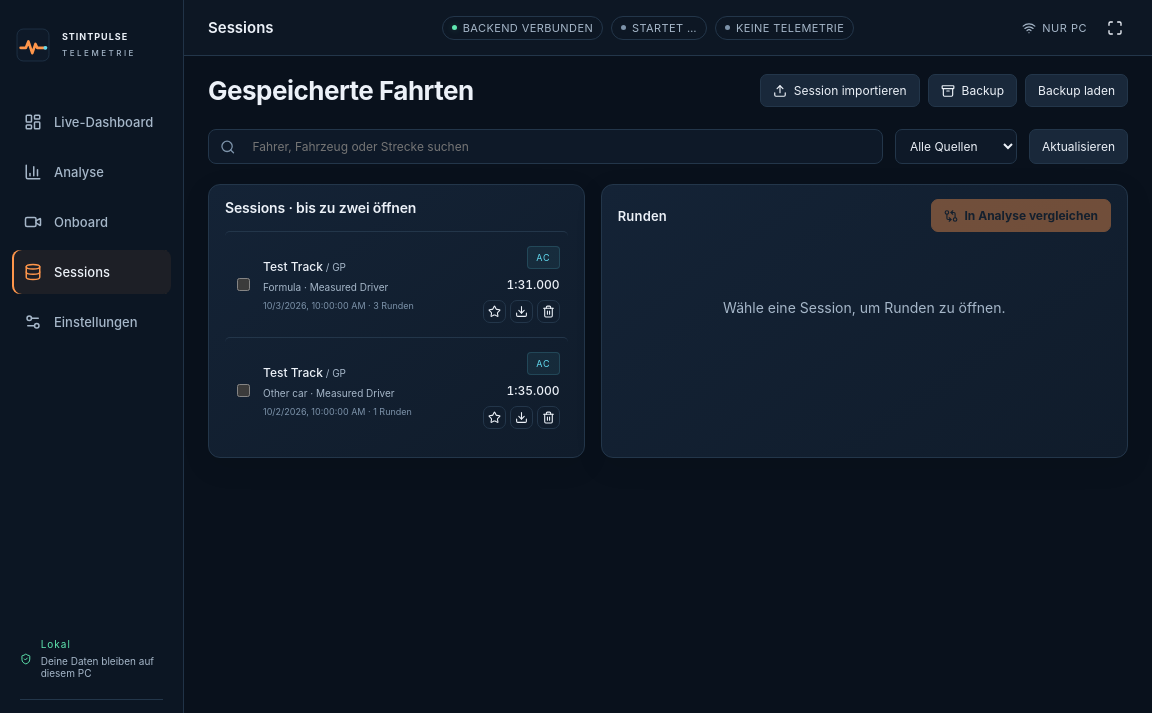
Test case: incompatible laps cannot be sent to analysis
The width and height of the screenshot is (1152, 713).
Note: open both sessions: same track, but the second one is another car
Click the 1st checkbox: (244, 284) [237, 278, 250, 291]
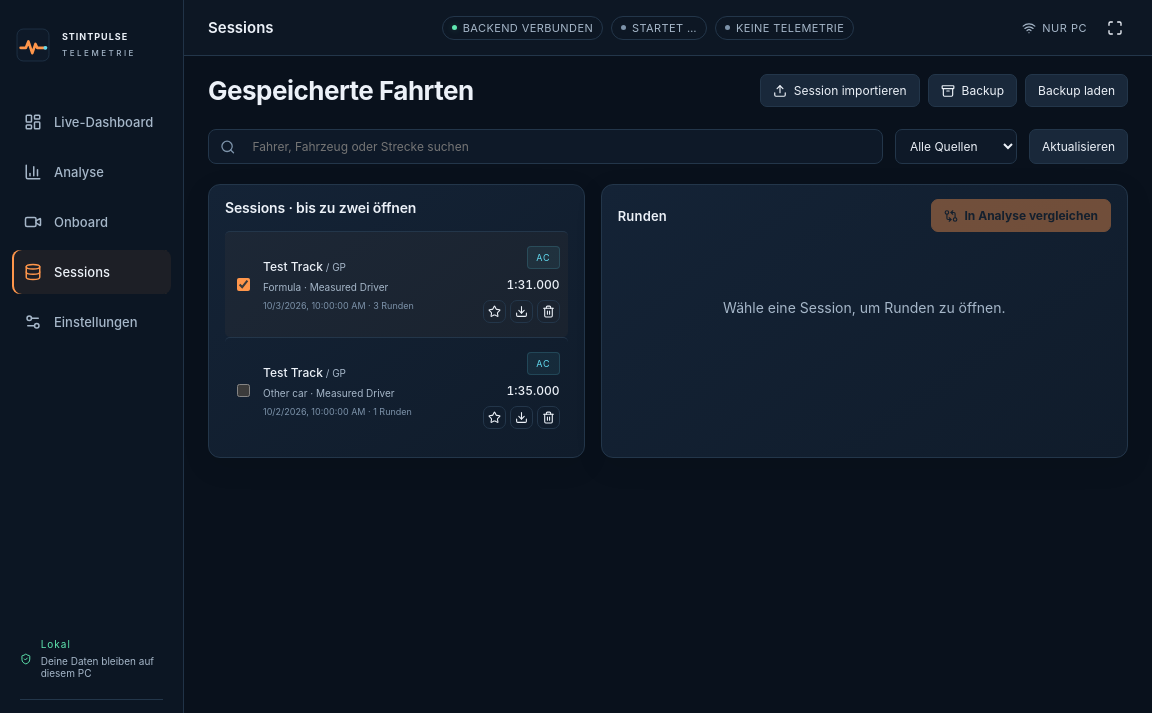
Click the 2nd checkbox: (244, 390) [237, 384, 250, 397]
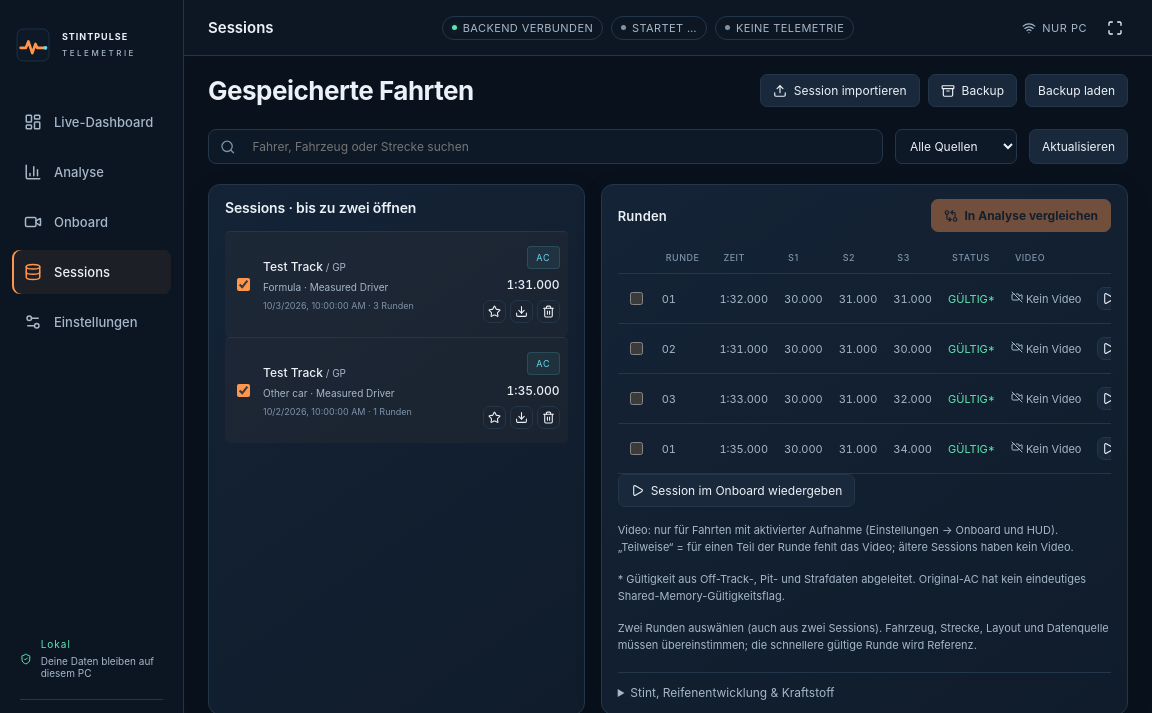
Expected: the number of checkboxes named "Runde 1 auswählen" is 2
Click the checkbox named "Runde 1 auswählen" in the row of "1:32.000": (636, 298) [630, 292, 643, 305]
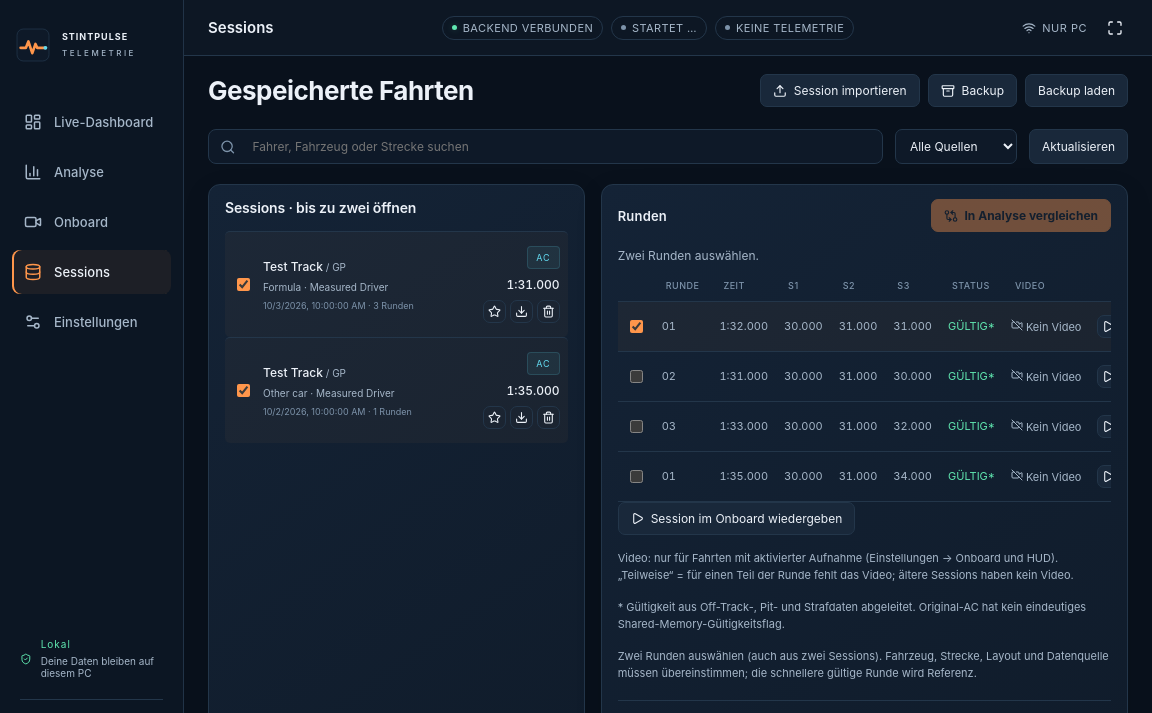
Click the checkbox named "Runde 1 auswählen" in the row of "34.000": (636, 476) [630, 470, 643, 483]
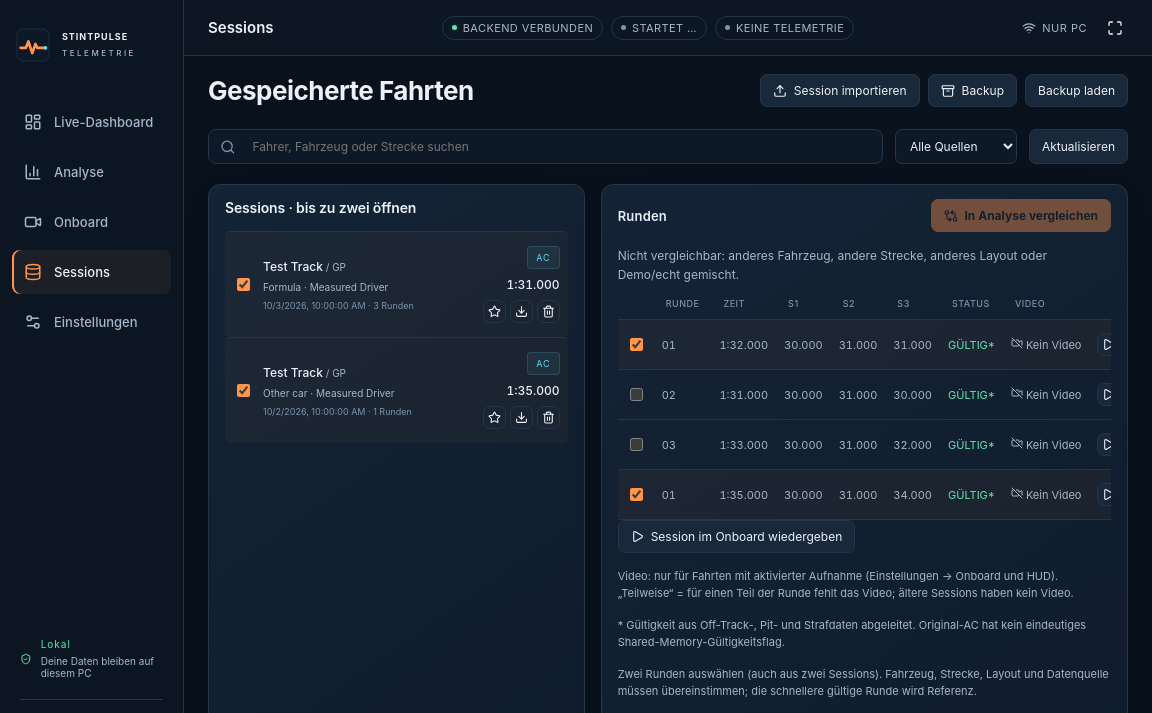
Expected: the button "In Analyse vergleichen" is disabled, [930, 199, 1111, 232]
Expected: the text with test id "compare-blocked" shows "Nicht vergleichbar", [618, 248, 1047, 282]
